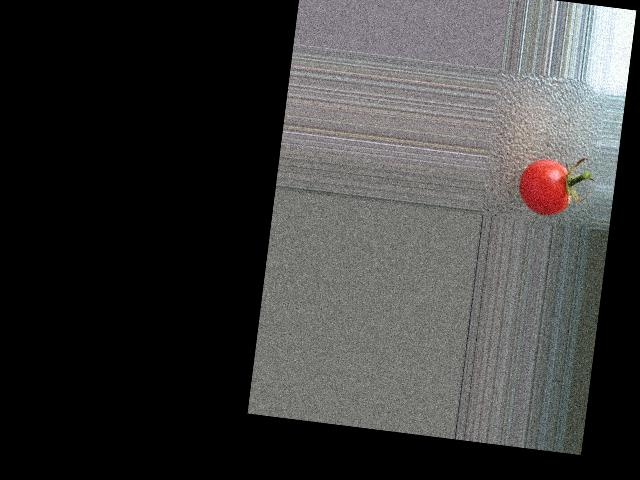tomato: (515, 154, 573, 217)
